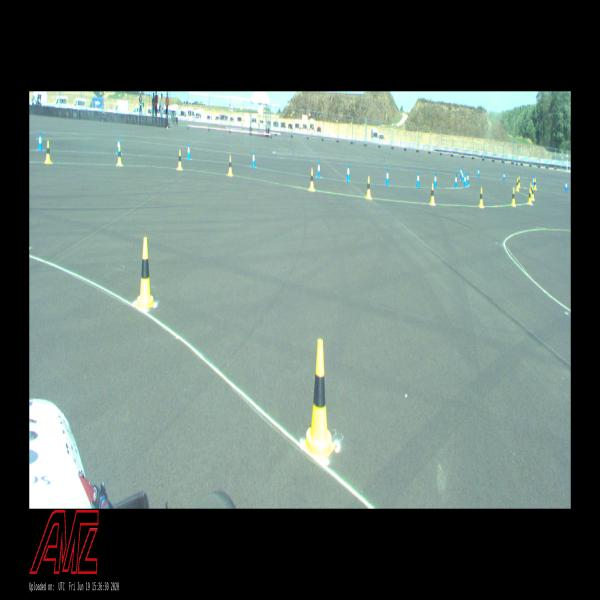blue_cone: (38, 132, 43, 152), (317, 160, 321, 178), (416, 171, 420, 188), (386, 169, 390, 185), (187, 143, 191, 159), (434, 172, 438, 188), (252, 150, 255, 168), (347, 164, 350, 181), (117, 137, 120, 154), (455, 173, 458, 188), (565, 181, 568, 192), (477, 167, 480, 178), (464, 174, 466, 187), (467, 172, 469, 185), (462, 170, 464, 181), (503, 171, 505, 181), (460, 167, 462, 177), (533, 176, 534, 187)
yellow_cone: (304, 340, 335, 460), (135, 238, 155, 310), (45, 141, 51, 164), (430, 184, 436, 205), (366, 176, 371, 199), (479, 187, 484, 208), (309, 169, 314, 190), (117, 146, 122, 166), (511, 188, 516, 207), (228, 156, 232, 176), (178, 150, 182, 170), (528, 186, 532, 204), (531, 185, 535, 202), (516, 177, 519, 191), (530, 181, 532, 197), (518, 176, 520, 188), (534, 178, 536, 189)
